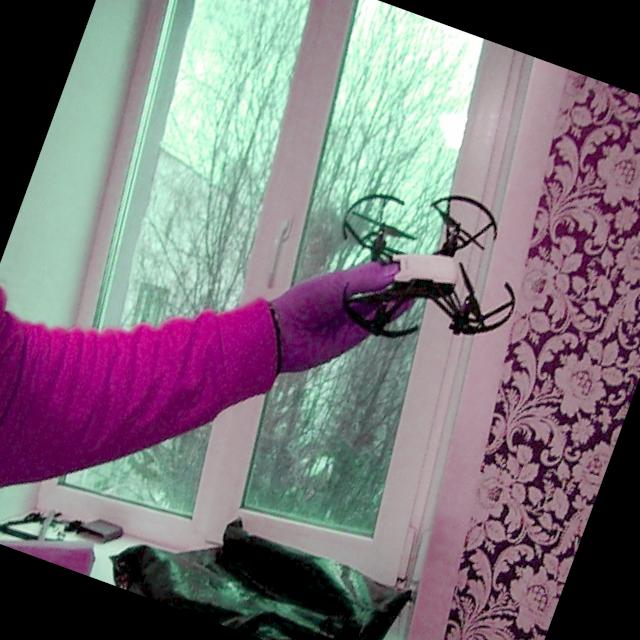drone: (306, 157, 556, 397)
